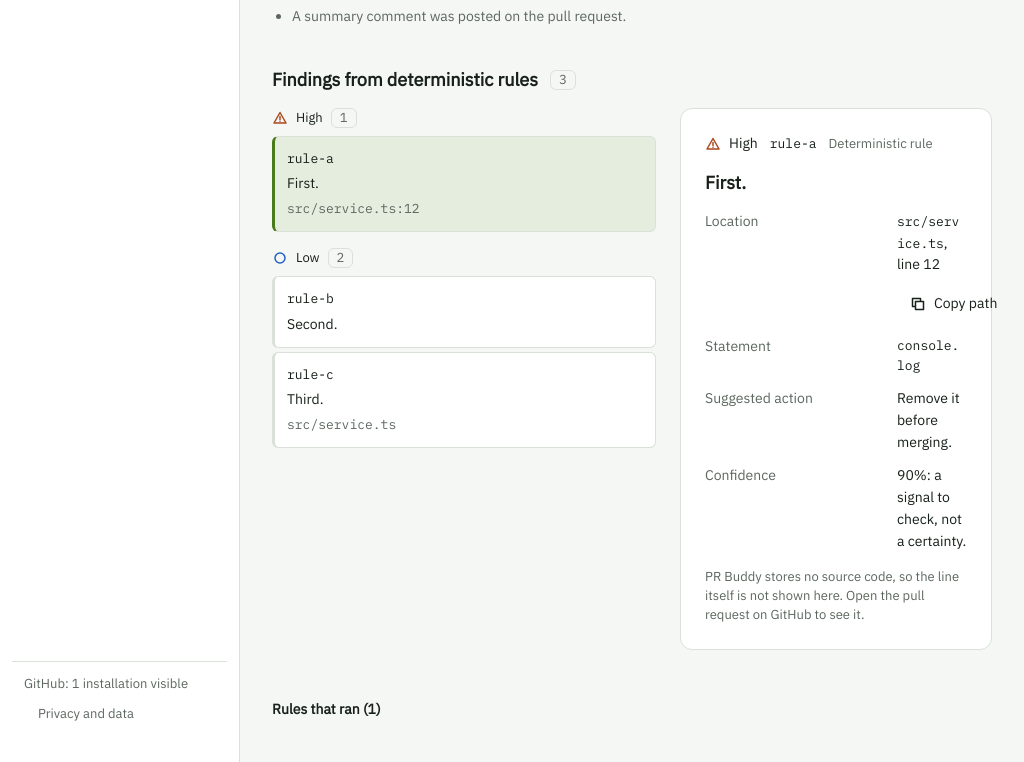
Scenario: one review › groups findings by severity and selects one through the address
(page scrolled)
Expected: the headings read "High1", "Low2", in this order, [272,108,356,128]; [272,248,353,268]
Expected: the link "rule-a First. src/service.ts:12" is shown, [272,136,656,232]
Click the link "rule-c Third. src/service.ts". click: (310, 375)
box: [272,352,656,448]
(page scrolled)
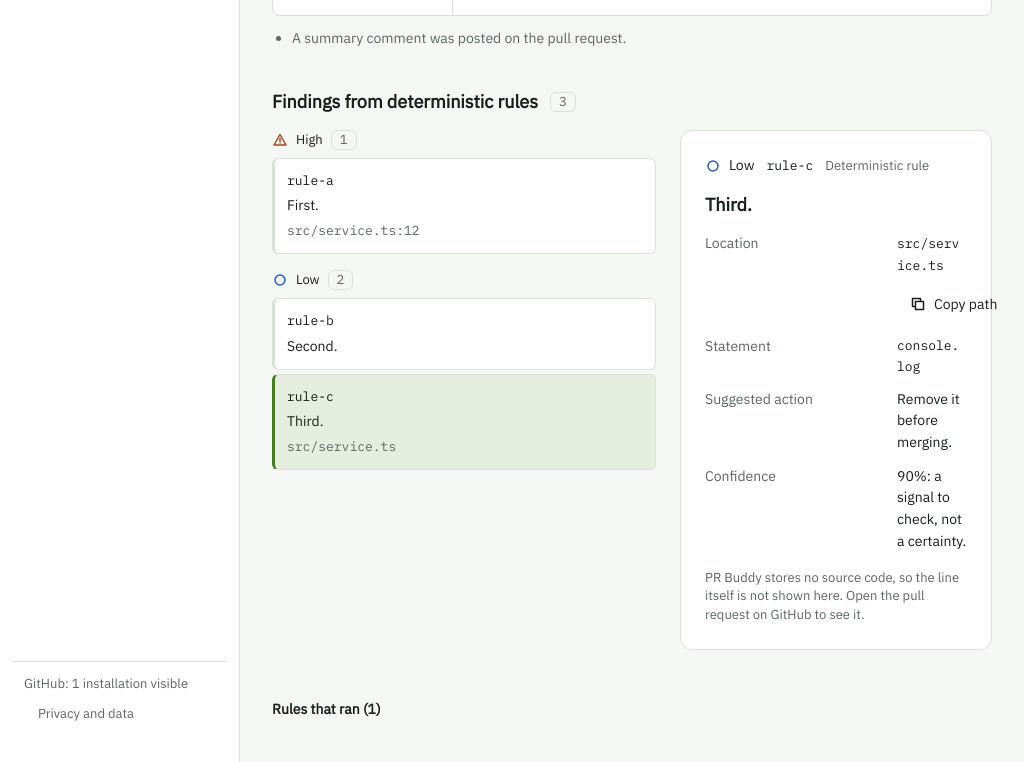
Expected: the link "rule-c Third. src/service.ts" is shown, [272,374,656,470]
Expected: the heading "Third." is shown, [705,193,752,216]
